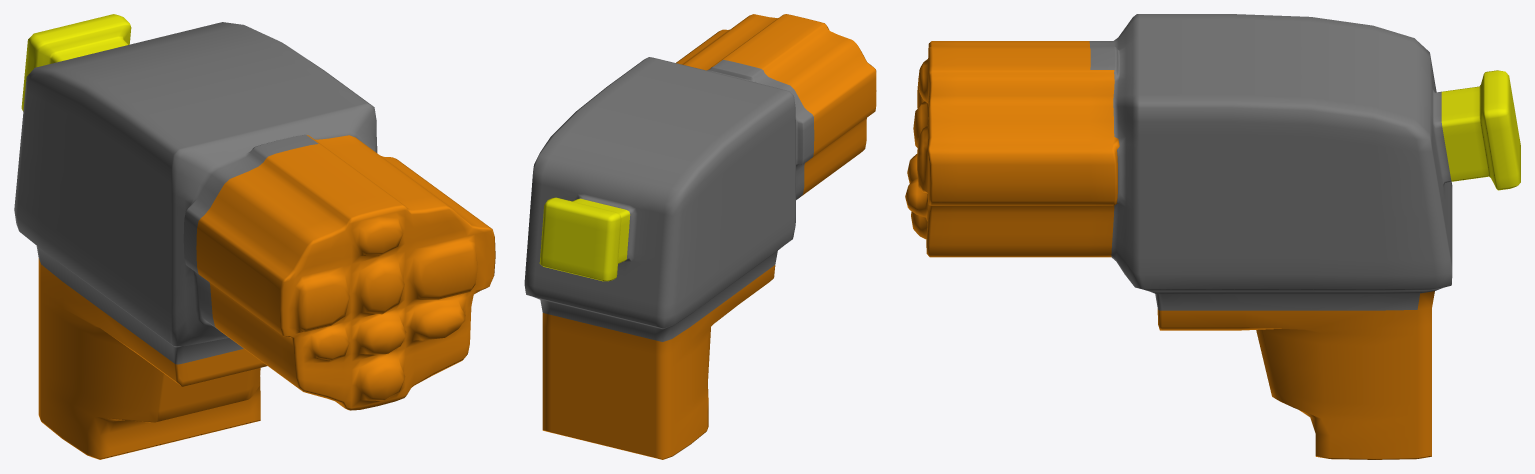
The model's file is nerfgun.fbx.
3 views of the same model, side by side, from view 1: azimuth 30°, elevation 25°; view 2: azimuth 150°, elevation 25°; view 3: azimuth 270°, elevation 25° (orthographic). The views are drawn at different scales.
Visible parts, largest first — view 1: pCube1; view 2: pCube1; view 3: pCube1.
Part boxes in pixels (x1=…): pCube1: x1=14, y1=14, x2=495, y2=459; pCube1: x1=524, y1=14, x2=876, y2=459; pCube1: x1=905, y1=14, x2=1520, y2=459.
Size of the model in its own units: 0.5784 by 0.9813 by 1.51.
